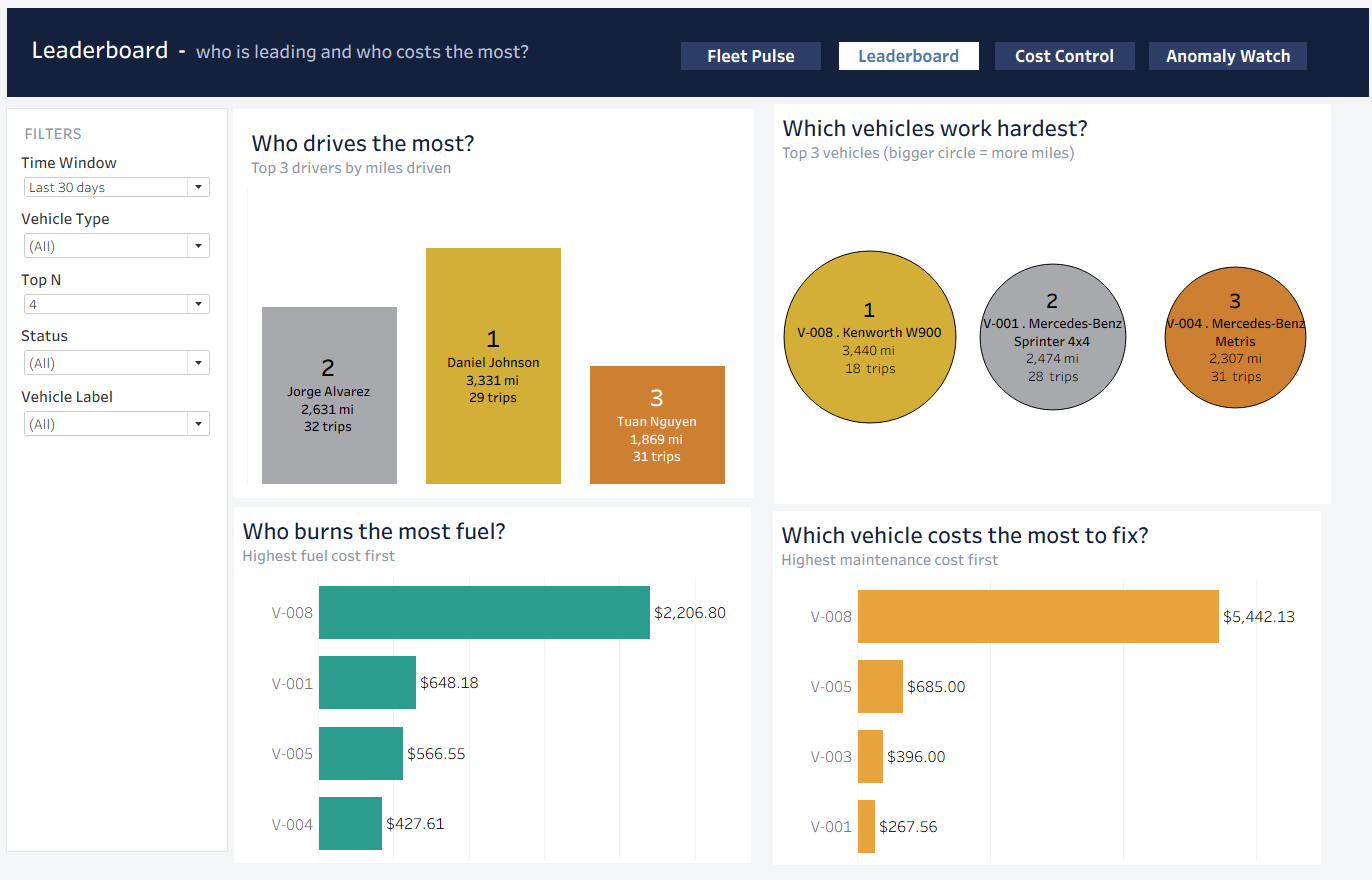

This screenshot's page, from the dashboard's own definition file:
{"tool":"tableau","page":{"name":"Leaderboard","canvas":[1400,900],"ordinal":3},"visuals":[{"type":"text","box":[40,37,578,32]},{"type":"dashboard-object","box":[693,46,140,28]},{"type":"dashboard-object","box":[851,46,140,28]},{"type":"dashboard-object","box":[1007,46,140,28]},{"type":"dashboard-object","box":[1161,46,158,28]},{"type":"worksheet","title":"Vehicle medal","mark":"Circle","cols":["Calculation_0837830509449217"],"box":[786,108,557,400]},{"type":"text","box":[29,123,200,29]},{"type":"worksheet","title":"Driver Podium","mark":"Bar","cols":["Calculation_1711942131658757"],"box":[255,123,501,369]},{"type":"parameter","param":"[Parameters].[Parameter 0860095027589120]","box":[29,152,200,56]},{"type":"filter","title":"Driver Podium","param":"[federated.0ieta591od6l6310zs0tm09nx7go].[none:vehicle_type:nk]","box":[29,208,200,61]},{"type":"parameter","param":"[Parameters].[Parameter 0860095029424130]","box":[29,269,200,56]},{"type":"filter","title":"Driver Podium","param":"[federated.0ieta591od6l6310zs0tm09nx7go].[none:status:nk]","box":[29,325,200,61]},{"type":"filter","title":"Vehicle medal","param":"[federated.0ieta591od6l6310zs0tm09nx7go].[none:Calculation_1711941793247232:nk]","box":[29,386,200,61]},{"type":"worksheet","title":"Top Fuel","mark":"Automatic","rows":["vehicle_code"],"cols":["fuel_cost"],"box":[246,511,517,356]},{"type":"worksheet","title":"Top Maintenance","mark":"Automatic","rows":["vehicle_code"],"cols":["maintenance_cost"],"box":[785,515,548,354]}]}

Visuals, with their boxes in screenshot pixels (x1, y1, x2, y2), scaled from the page's 1400x900 canvas onto the 1372x880 screenshot:
text: bbox=(39, 36, 606, 67)
dashboard-object: bbox=(679, 45, 816, 72)
dashboard-object: bbox=(834, 45, 971, 72)
dashboard-object: bbox=(987, 45, 1124, 72)
dashboard-object: bbox=(1138, 45, 1293, 72)
"Vehicle medal" worksheet (Circle marks): bbox=(770, 106, 1316, 497)
text: bbox=(28, 120, 224, 149)
"Driver Podium" worksheet (Bar marks): bbox=(250, 120, 741, 481)
parameter: bbox=(28, 149, 224, 203)
"Driver Podium" filter: bbox=(28, 203, 224, 263)
parameter: bbox=(28, 263, 224, 318)
"Driver Podium" filter: bbox=(28, 318, 224, 377)
"Vehicle medal" filter: bbox=(28, 377, 224, 437)
"Top Fuel" worksheet: bbox=(241, 500, 748, 848)
"Top Maintenance" worksheet: bbox=(769, 504, 1306, 850)
